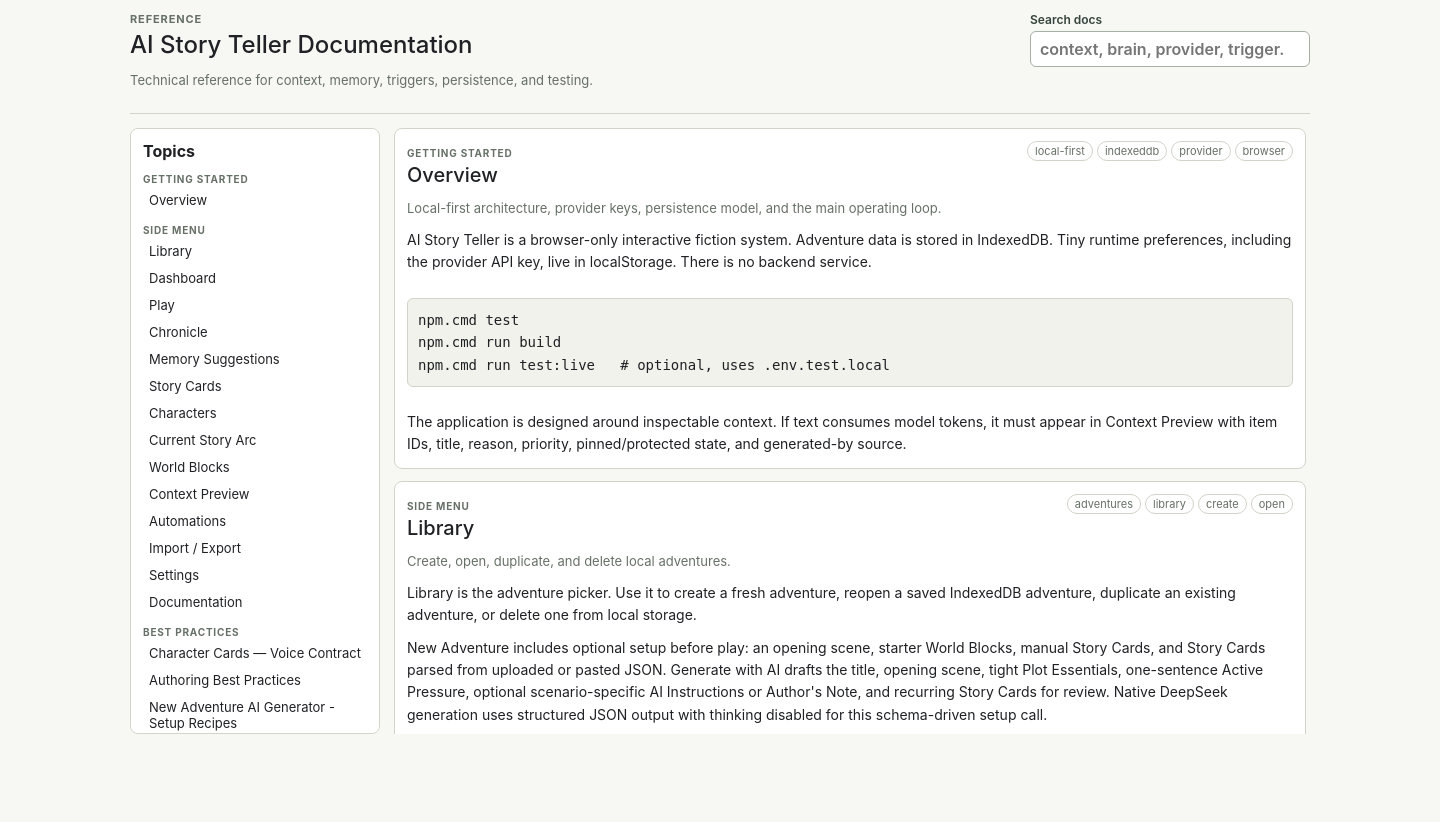
it: HelpPage documentation UI › documents Next Turn Note as an inspectable context lane
Type "next turn note" into the search field labelled "Search docs" at [1170, 49], box x1=1030 y1=31 x2=1310 y2=67
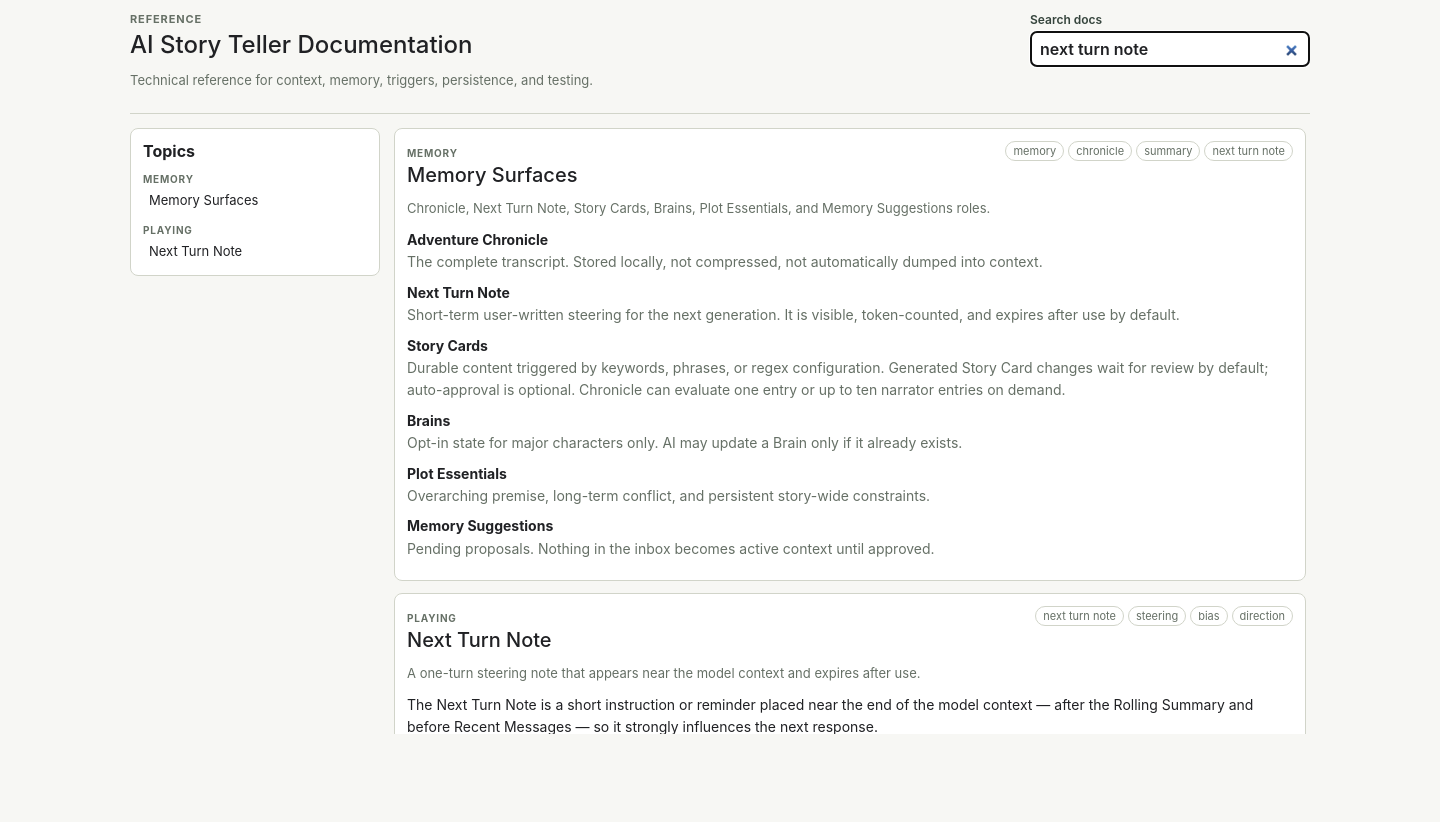
Expected: the link "Next Turn Note" is shown, x1=149 y1=243 x2=242 y2=259
Expected: the text "visible, token-counted, and expires after use by default" is shown, x1=407 y1=306 x2=1180 y2=323
